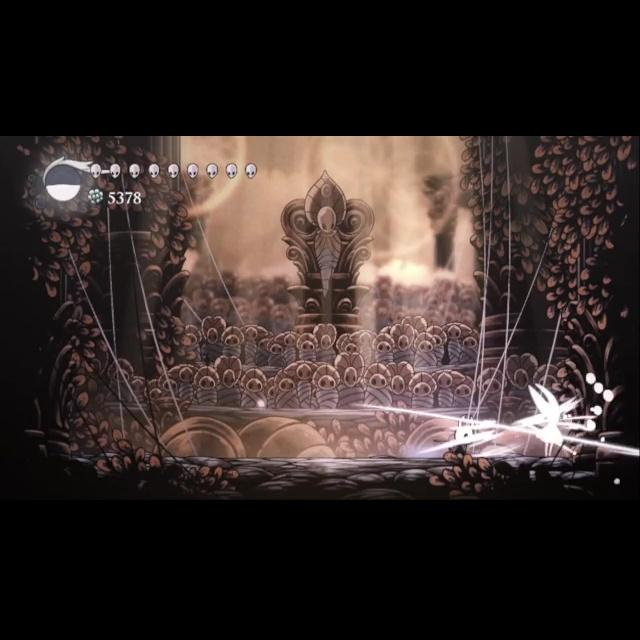EnemyDamaged: (518, 379, 580, 465)
Player: (435, 415, 481, 461)
